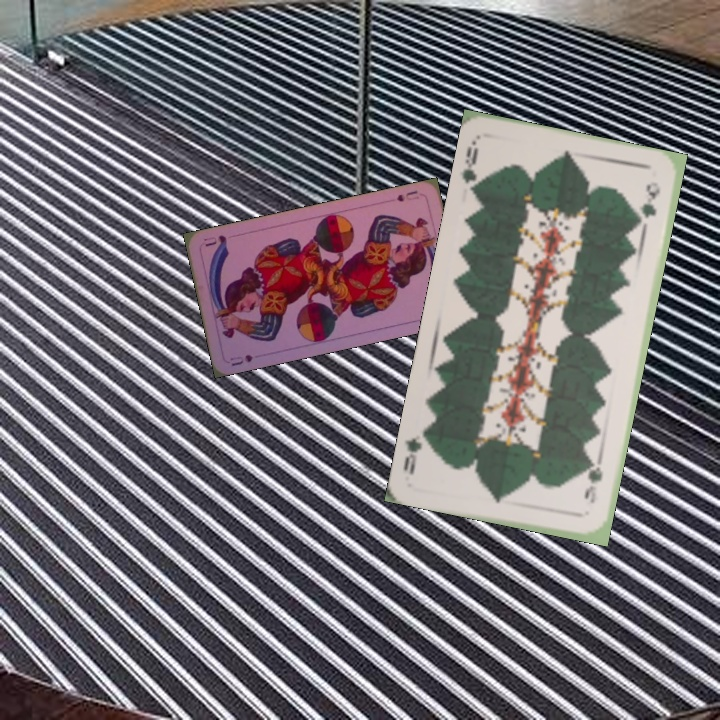G9: (458, 136, 485, 197), (581, 457, 605, 506)
SU: (226, 350, 255, 369), (392, 186, 421, 204)
